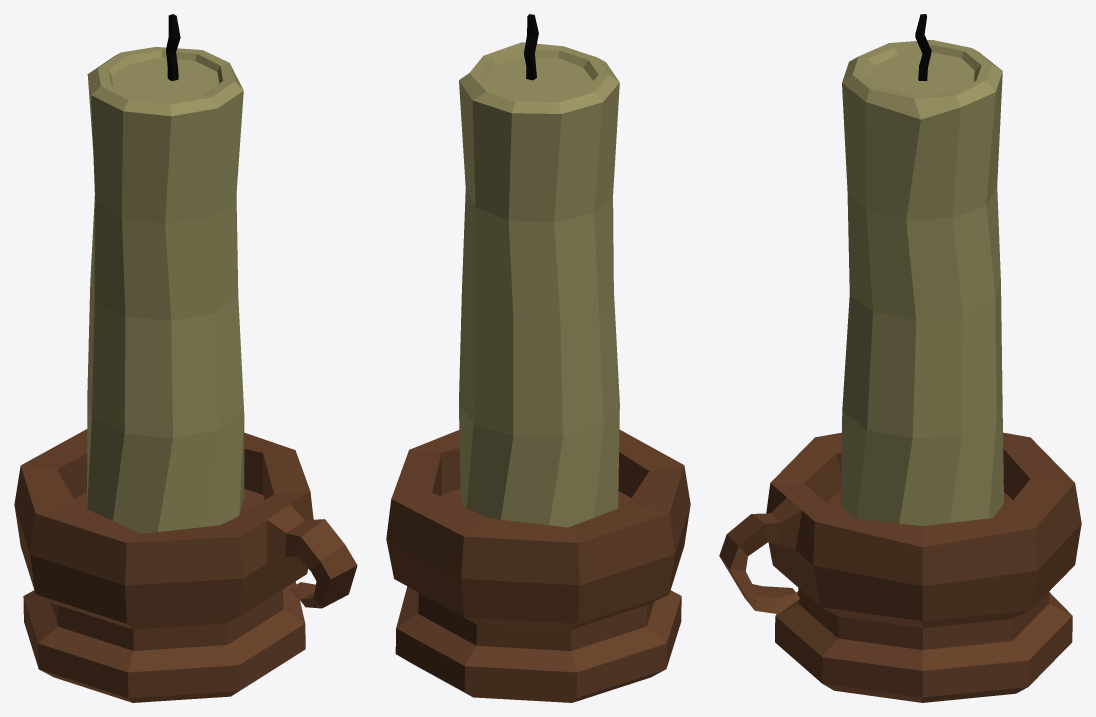
Rendered from candle.fbx.
The picture shows the model from 3 angles, left to right: view 1: azimuth 30°, elevation 25°; view 2: azimuth 150°, elevation 25°; view 3: azimuth 270°, elevation 25°; orthographic projection.
Visible parts, largest first — view 1: Cylinder; view 2: Cylinder; view 3: Cylinder.
Part boxes in pixels (x1,y1,x2,y2): Cylinder: [14, 14, 357, 702]; Cylinder: [386, 14, 690, 702]; Cylinder: [719, 14, 1081, 702].
Size of the model in its own units: 440 by 980 by 501.
